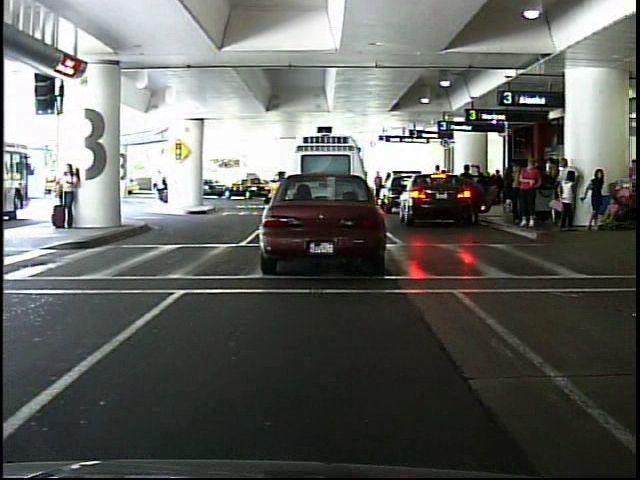person: (520, 155, 544, 231), (60, 160, 85, 231), (147, 163, 174, 206)
